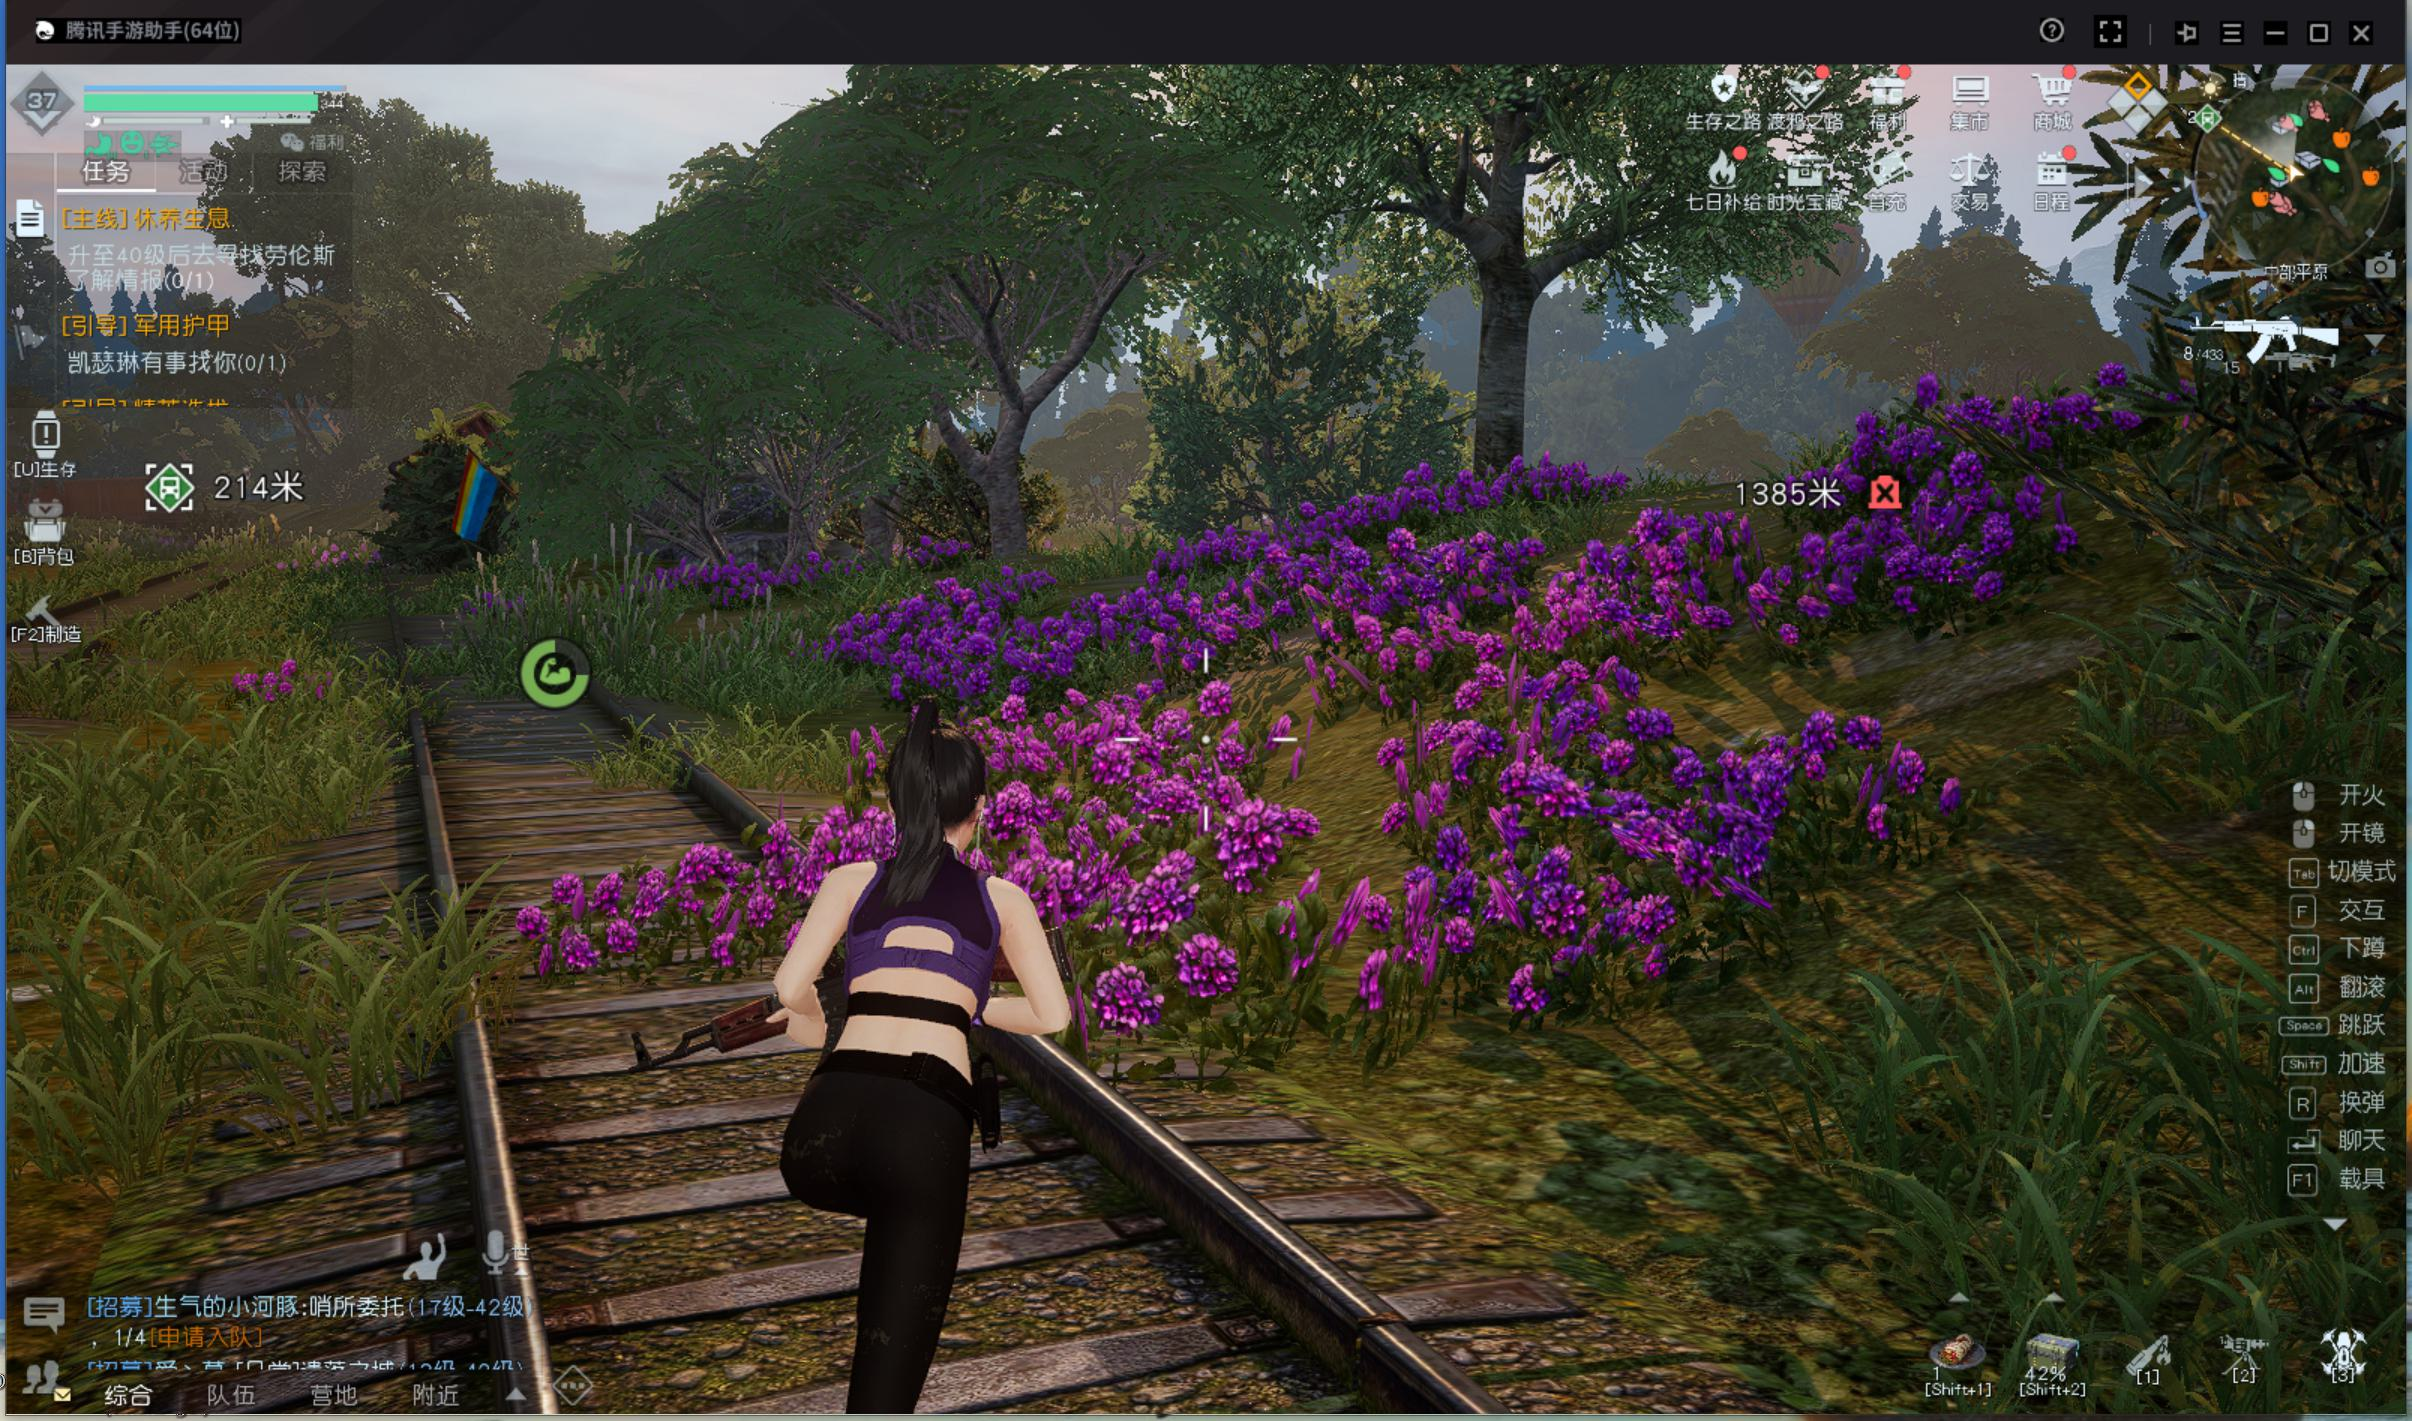tree: (1455, 283, 1544, 492), (969, 428, 1040, 575)
